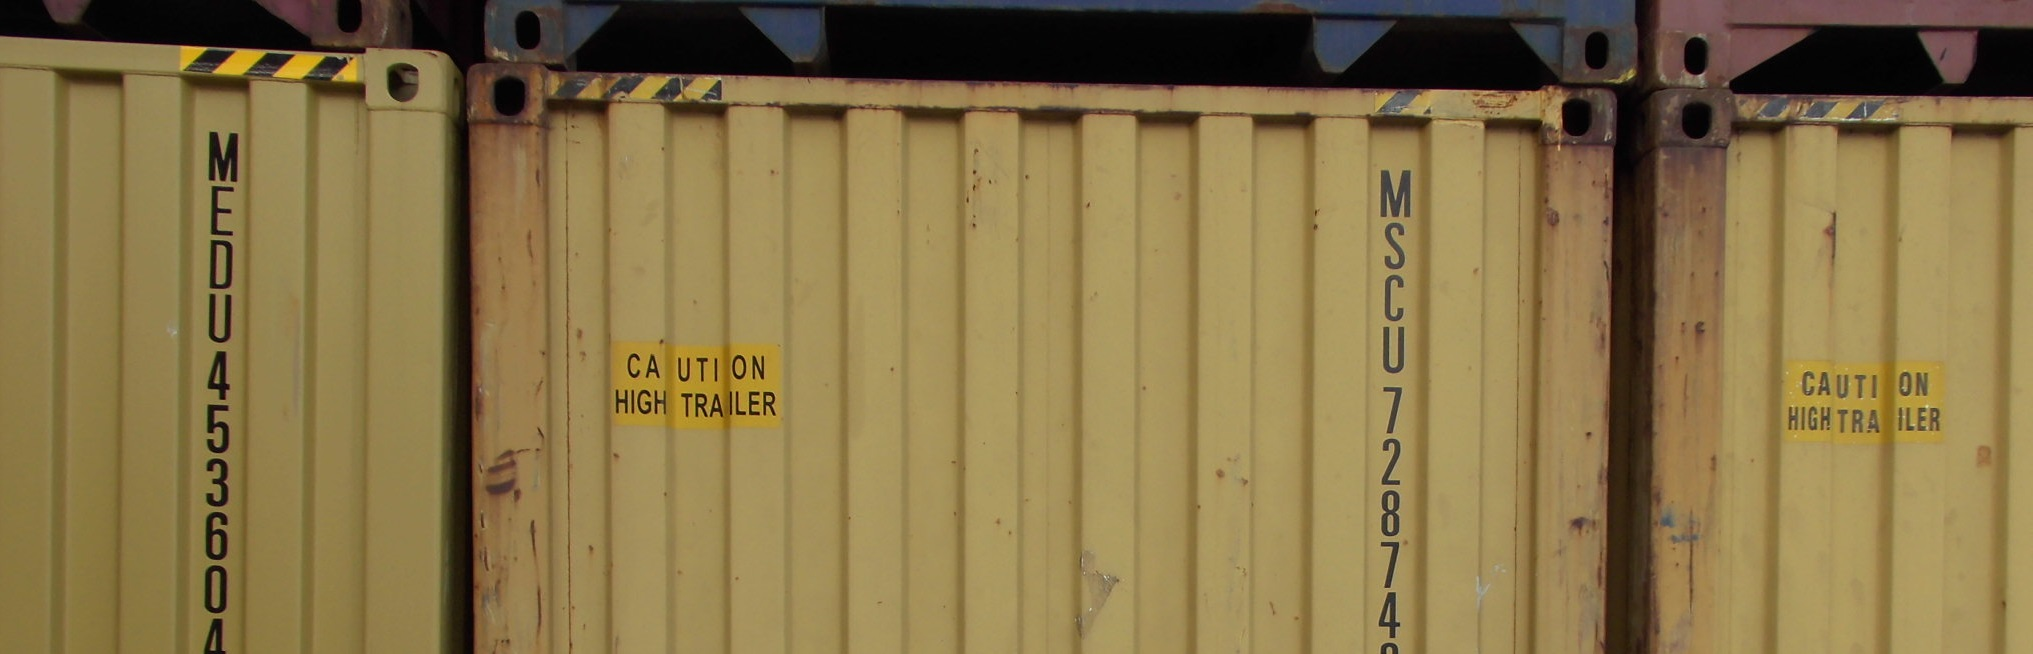container_no_door: (472, 67, 1606, 641), (1, 42, 446, 654), (1635, 79, 2033, 654)
